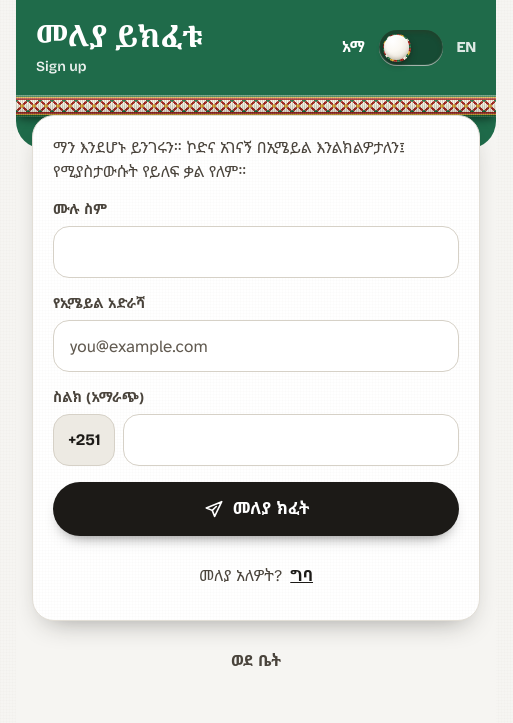
Test: sign up › REJECTS a missing name before anything is sent
In the field with id "auth-email": [256, 346] box [53, 320, 459, 372], type "abebe@example.com"
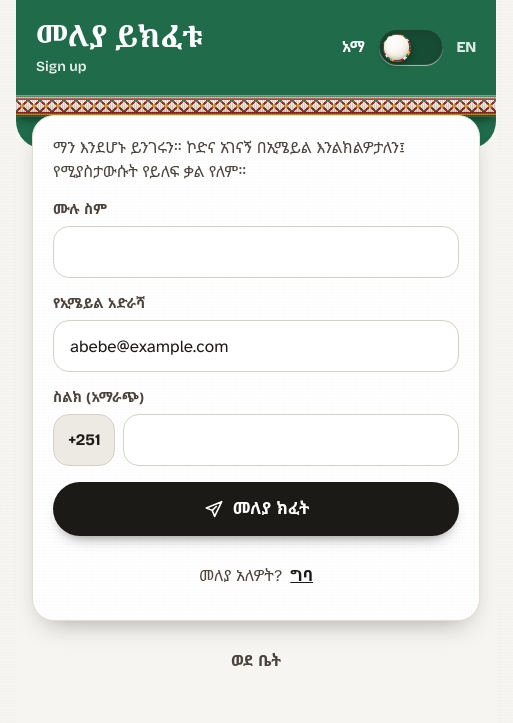
Click the submit button: [256, 509] box [53, 482, 459, 536]
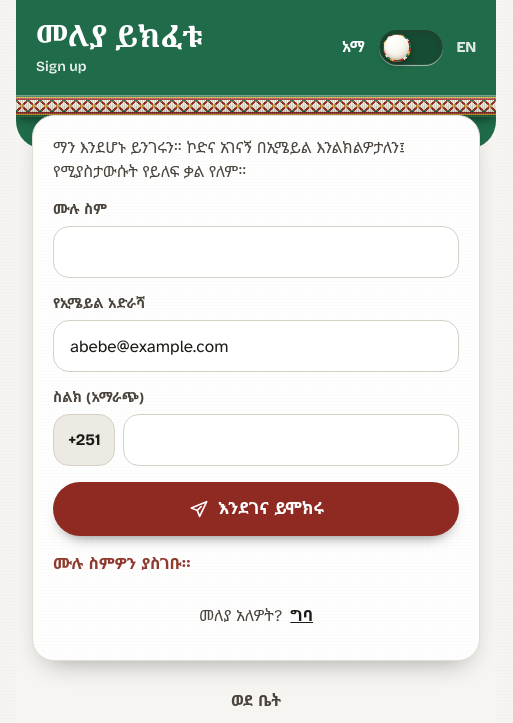
Expected: the message "ሙሉ ስምዎን ያስገቡ።" is shown, [53, 554, 190, 574]
